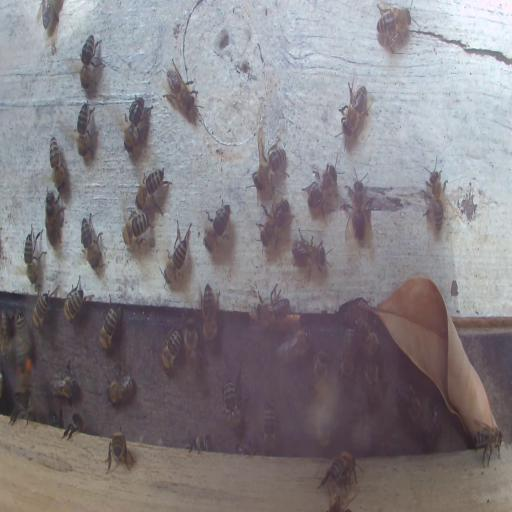nonpollenbee: (163, 56, 200, 122), (336, 77, 373, 143), (421, 152, 447, 235), (257, 193, 291, 252), (221, 366, 249, 434), (292, 231, 330, 280), (301, 161, 336, 213), (375, 5, 415, 50), (136, 166, 172, 215), (78, 32, 106, 93), (203, 200, 232, 256), (74, 98, 98, 165), (252, 144, 286, 191), (473, 421, 506, 468), (348, 176, 372, 240), (122, 94, 147, 154), (168, 218, 192, 280), (80, 212, 104, 274), (23, 222, 46, 286), (396, 385, 428, 431), (106, 356, 135, 406), (353, 311, 382, 361), (318, 453, 358, 489), (62, 275, 91, 324), (276, 325, 311, 365), (44, 187, 66, 249), (98, 296, 122, 350), (48, 358, 78, 401), (200, 281, 220, 343), (254, 293, 291, 325), (362, 360, 382, 416), (121, 210, 151, 247), (106, 429, 131, 472), (338, 326, 357, 382), (160, 326, 182, 371), (36, 0, 62, 38), (31, 288, 54, 330), (262, 401, 278, 460), (49, 135, 65, 192), (184, 323, 202, 373), (10, 390, 34, 425), (16, 308, 30, 366), (63, 412, 85, 438), (1, 310, 12, 362), (186, 433, 212, 453), (313, 350, 330, 380), (50, 410, 60, 426)
pollenbee: (16, 342, 34, 396)
